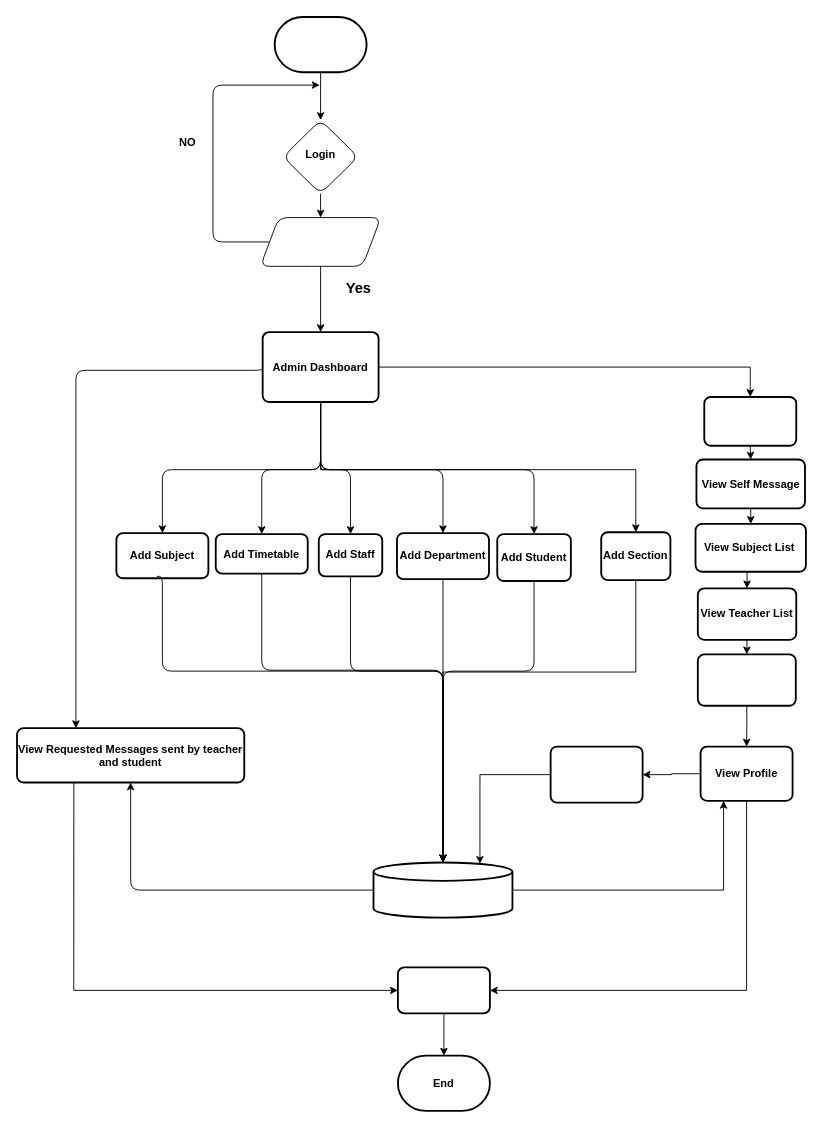
Image size: 822x1127. Some labels were removed from this diagram. The centre of each missing label's shape, as x and y in pixels:
"Change Password" belongs at (596,774).
"Database" belongs at (442,889).
"Enter email and password" belongs at (320,241).
"Log Out" belongs at (443,990).
"Start" belongs at (320,44).
"View Notice Board" belongs at (750,421).
"View Student List" belongs at (746,679).
